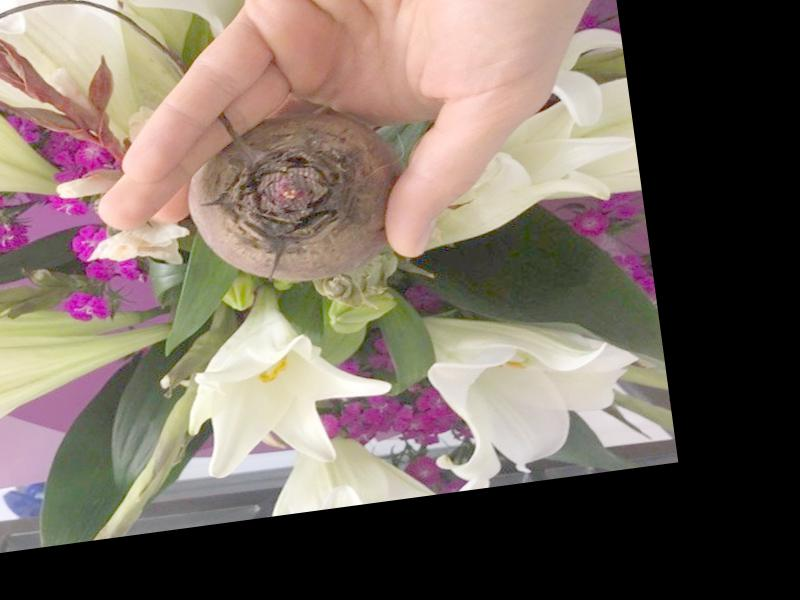Beet: (174, 96, 410, 296)
